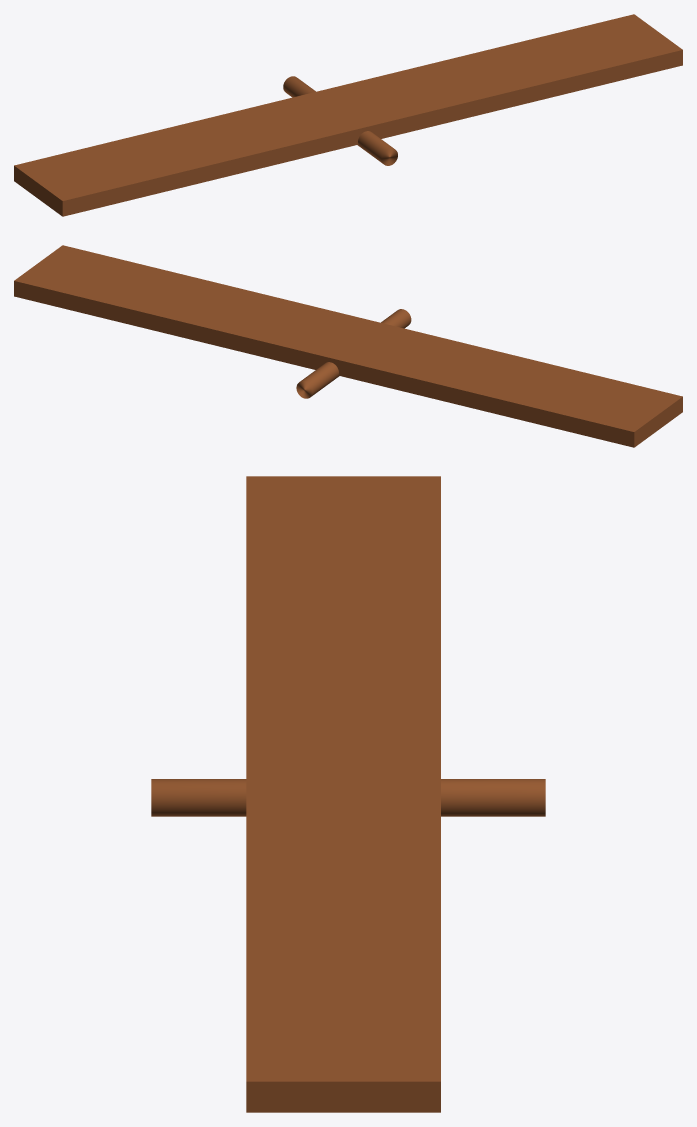
The model's file is Seesaw_part1.fbx.
The picture shows the model from 3 angles, top to bottom: view 1: azimuth 30°, elevation 25°; view 2: azimuth 150°, elevation 25°; view 3: azimuth 270°, elevation 25°; orthographic projection. The views are drawn at different scales.
Parts seen in each view (by area): view 1: Cylinder; view 2: Cylinder; view 3: Cylinder.
Boxes of the visible parts, x1,y1,x2,y2 form: Cylinder: (14,14,682,216); Cylinder: (14,245,682,447); Cylinder: (151,476,545,1112).
Size of the model in its own units: 1470 by 48.28 by 405.
